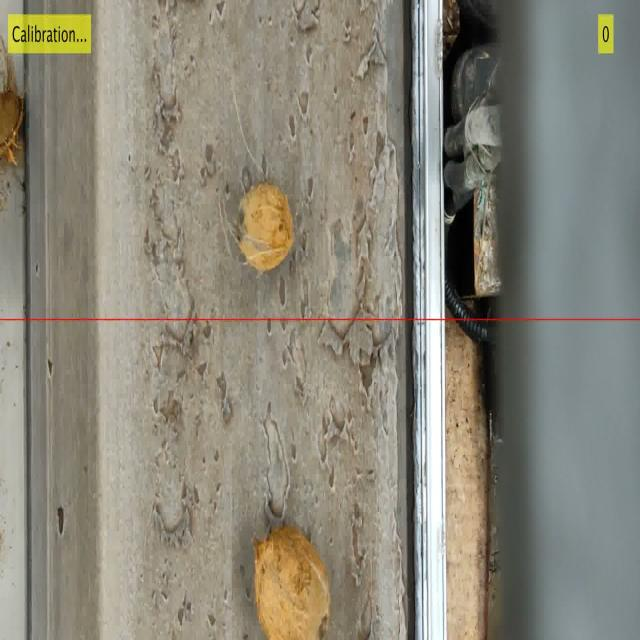Coconut-Conveyor-Belt: (254, 526, 330, 639), (239, 177, 293, 271), (0, 37, 24, 164)
